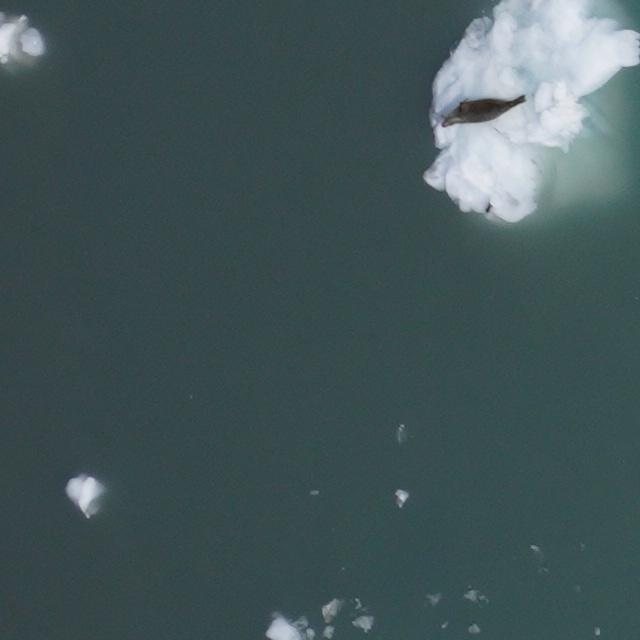seal: (436, 92, 530, 130)
